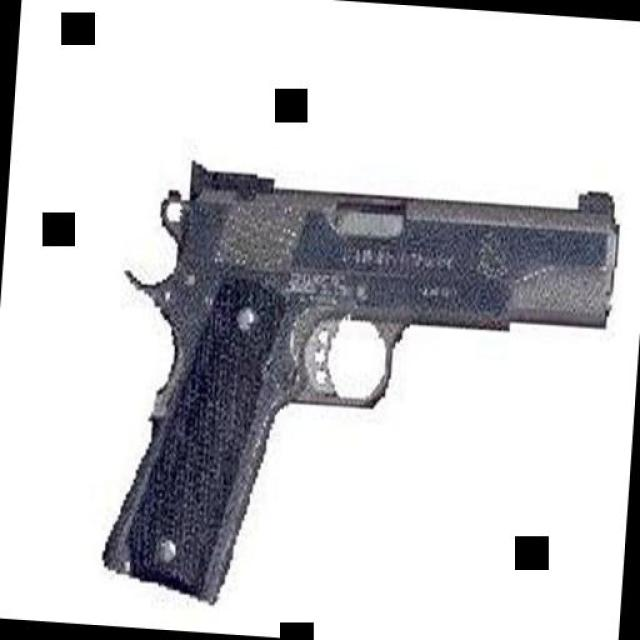gun: (89, 155, 619, 621)
